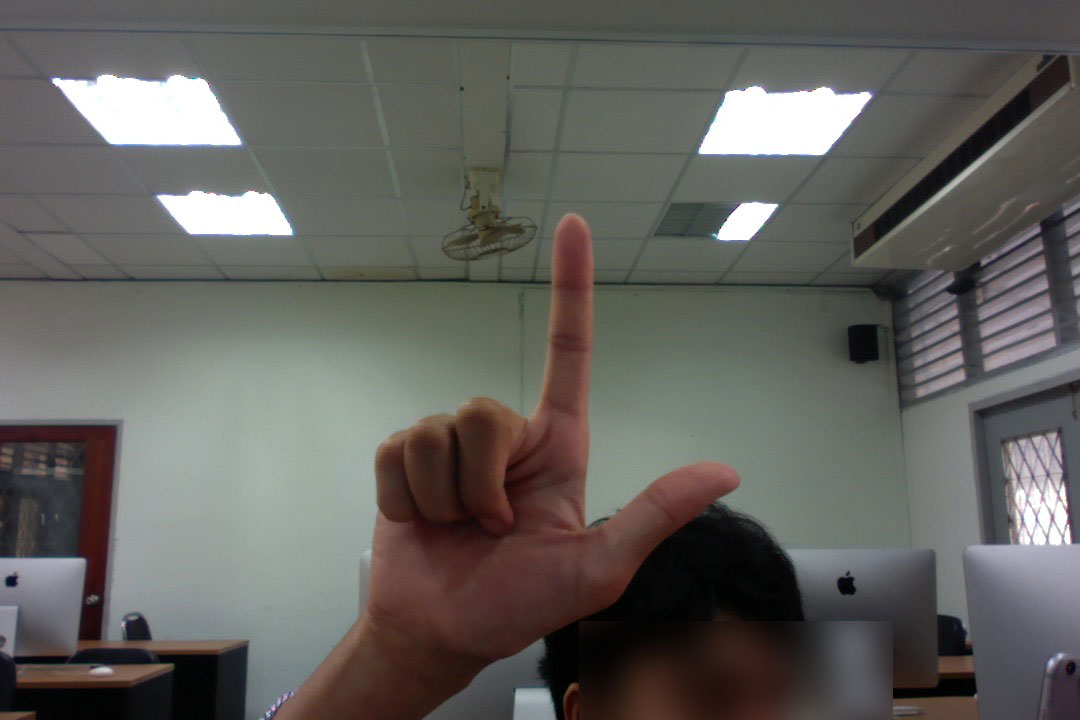lor: (291, 200, 749, 669)
